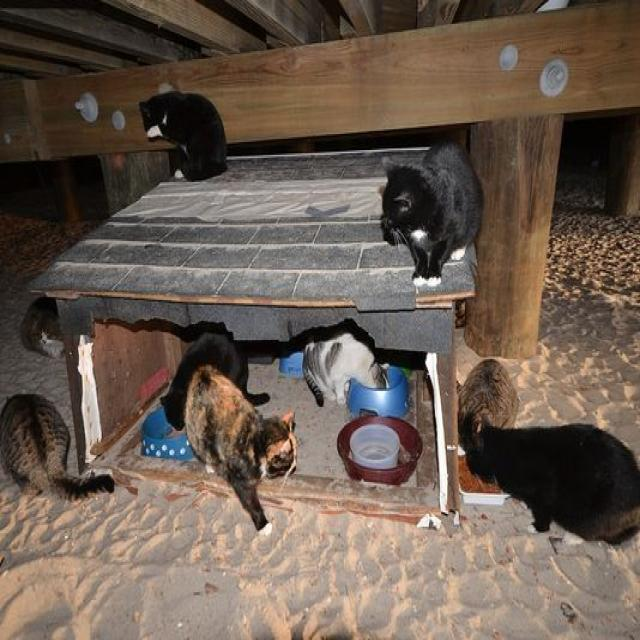cat: (469, 424, 640, 542), (185, 365, 295, 532), (383, 143, 483, 286), (0, 395, 114, 499), (161, 333, 269, 429), (141, 92, 227, 181), (304, 333, 386, 404), (459, 358, 519, 451), (286, 318, 375, 352), (21, 300, 64, 357)
